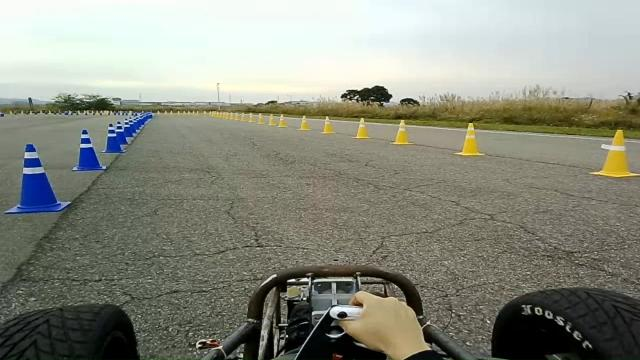blue cone: (4, 142, 71, 214), (72, 128, 106, 171), (100, 123, 126, 153), (112, 122, 130, 145)
yellow cone: (582, 129, 640, 178), (454, 122, 485, 156), (390, 119, 414, 145), (352, 117, 372, 139), (321, 115, 335, 134), (297, 115, 311, 130), (277, 114, 287, 127), (255, 113, 265, 124), (267, 114, 276, 126), (247, 112, 255, 123), (238, 114, 246, 122), (233, 112, 240, 121), (228, 112, 235, 120)
